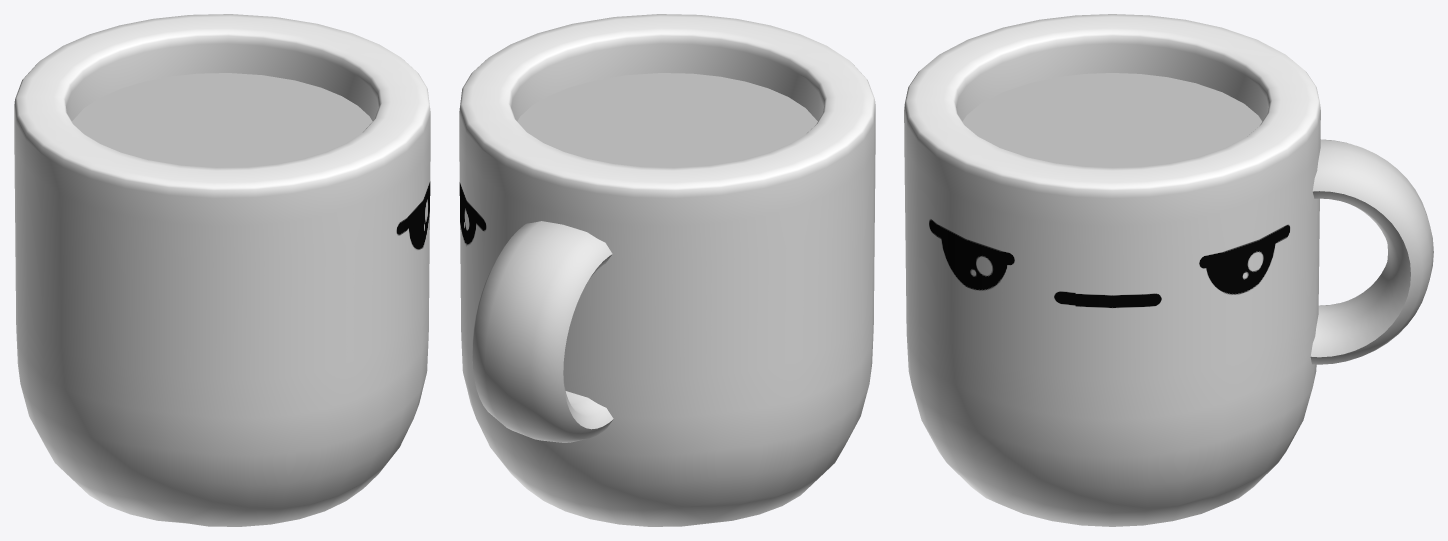
The model's file is coffeMug.fbx.
3 renders of one model, left to right at view 1: azimuth 30°, elevation 25°; view 2: azimuth 150°, elevation 25°; view 3: azimuth 270°, elevation 25°, orthographic.
Visible parts, largest first — view 1: BodyMug; view 2: BodyMug; view 3: BodyMug.
Boxes of the visible parts, box(x1,y1,x2,y2) form: BodyMug: box(14, 14, 430, 526); BodyMug: box(459, 14, 875, 526); BodyMug: box(904, 14, 1433, 526).
Bounding box in the file's own units: 199 × 196 × 253.
